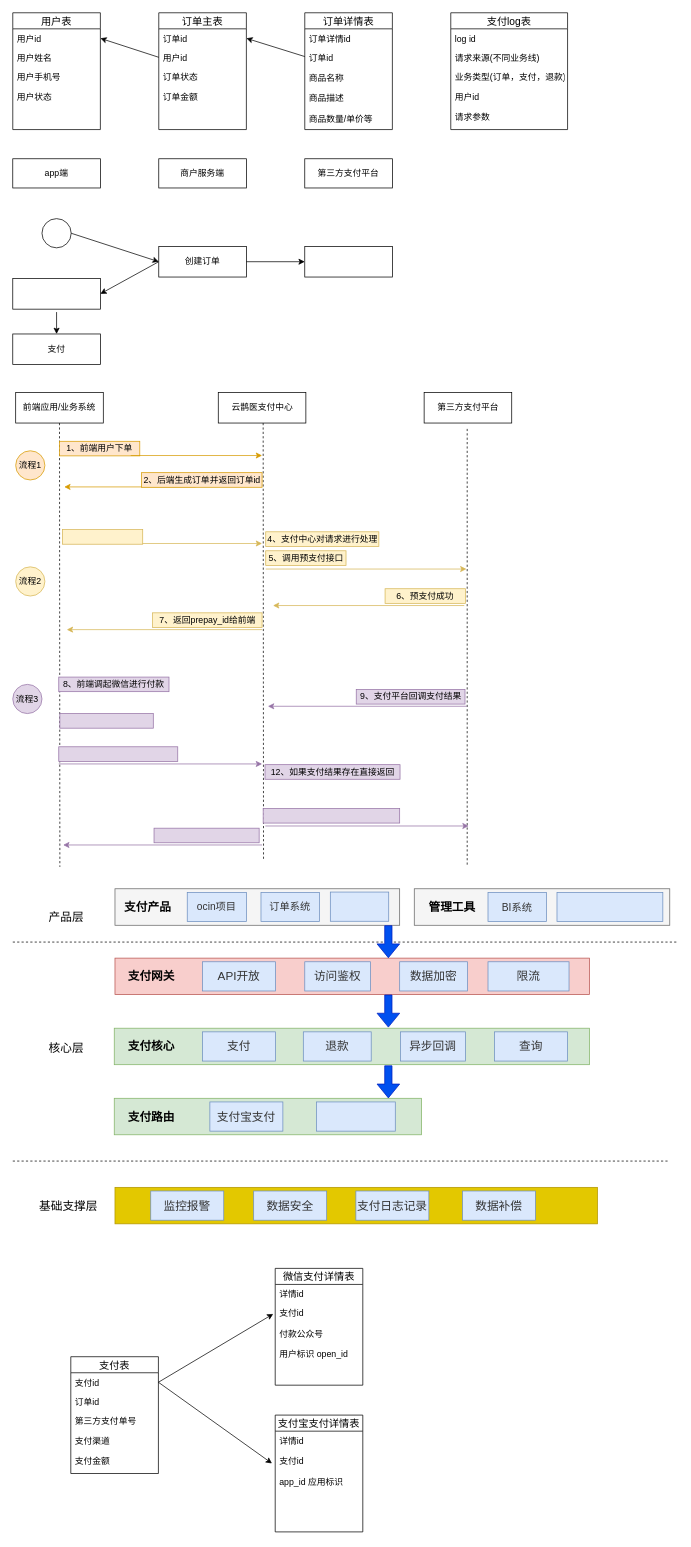
Image size: 691x1547. Some labels were removed from this diagram. Here are the shapes that lost their labels. From the top down, the centre of each, then its label:
point 56,233: 点击 下单
point 348,261: 预下单
point 56,293: 订单详情
point 102,536: 3、前端用户预支付
point 106,720: 10、sdk返回支付信息
point 118,753: 11、从后端查询支付结果
point 206,835: 14、返回支付结果给前端
point 331,815: 13、如果支付结果不存在，主动查询第三方支付平台
point 359,906: 支付项目
point 609,907: 支付中心管理后台
point 355,1116: 微信支付
